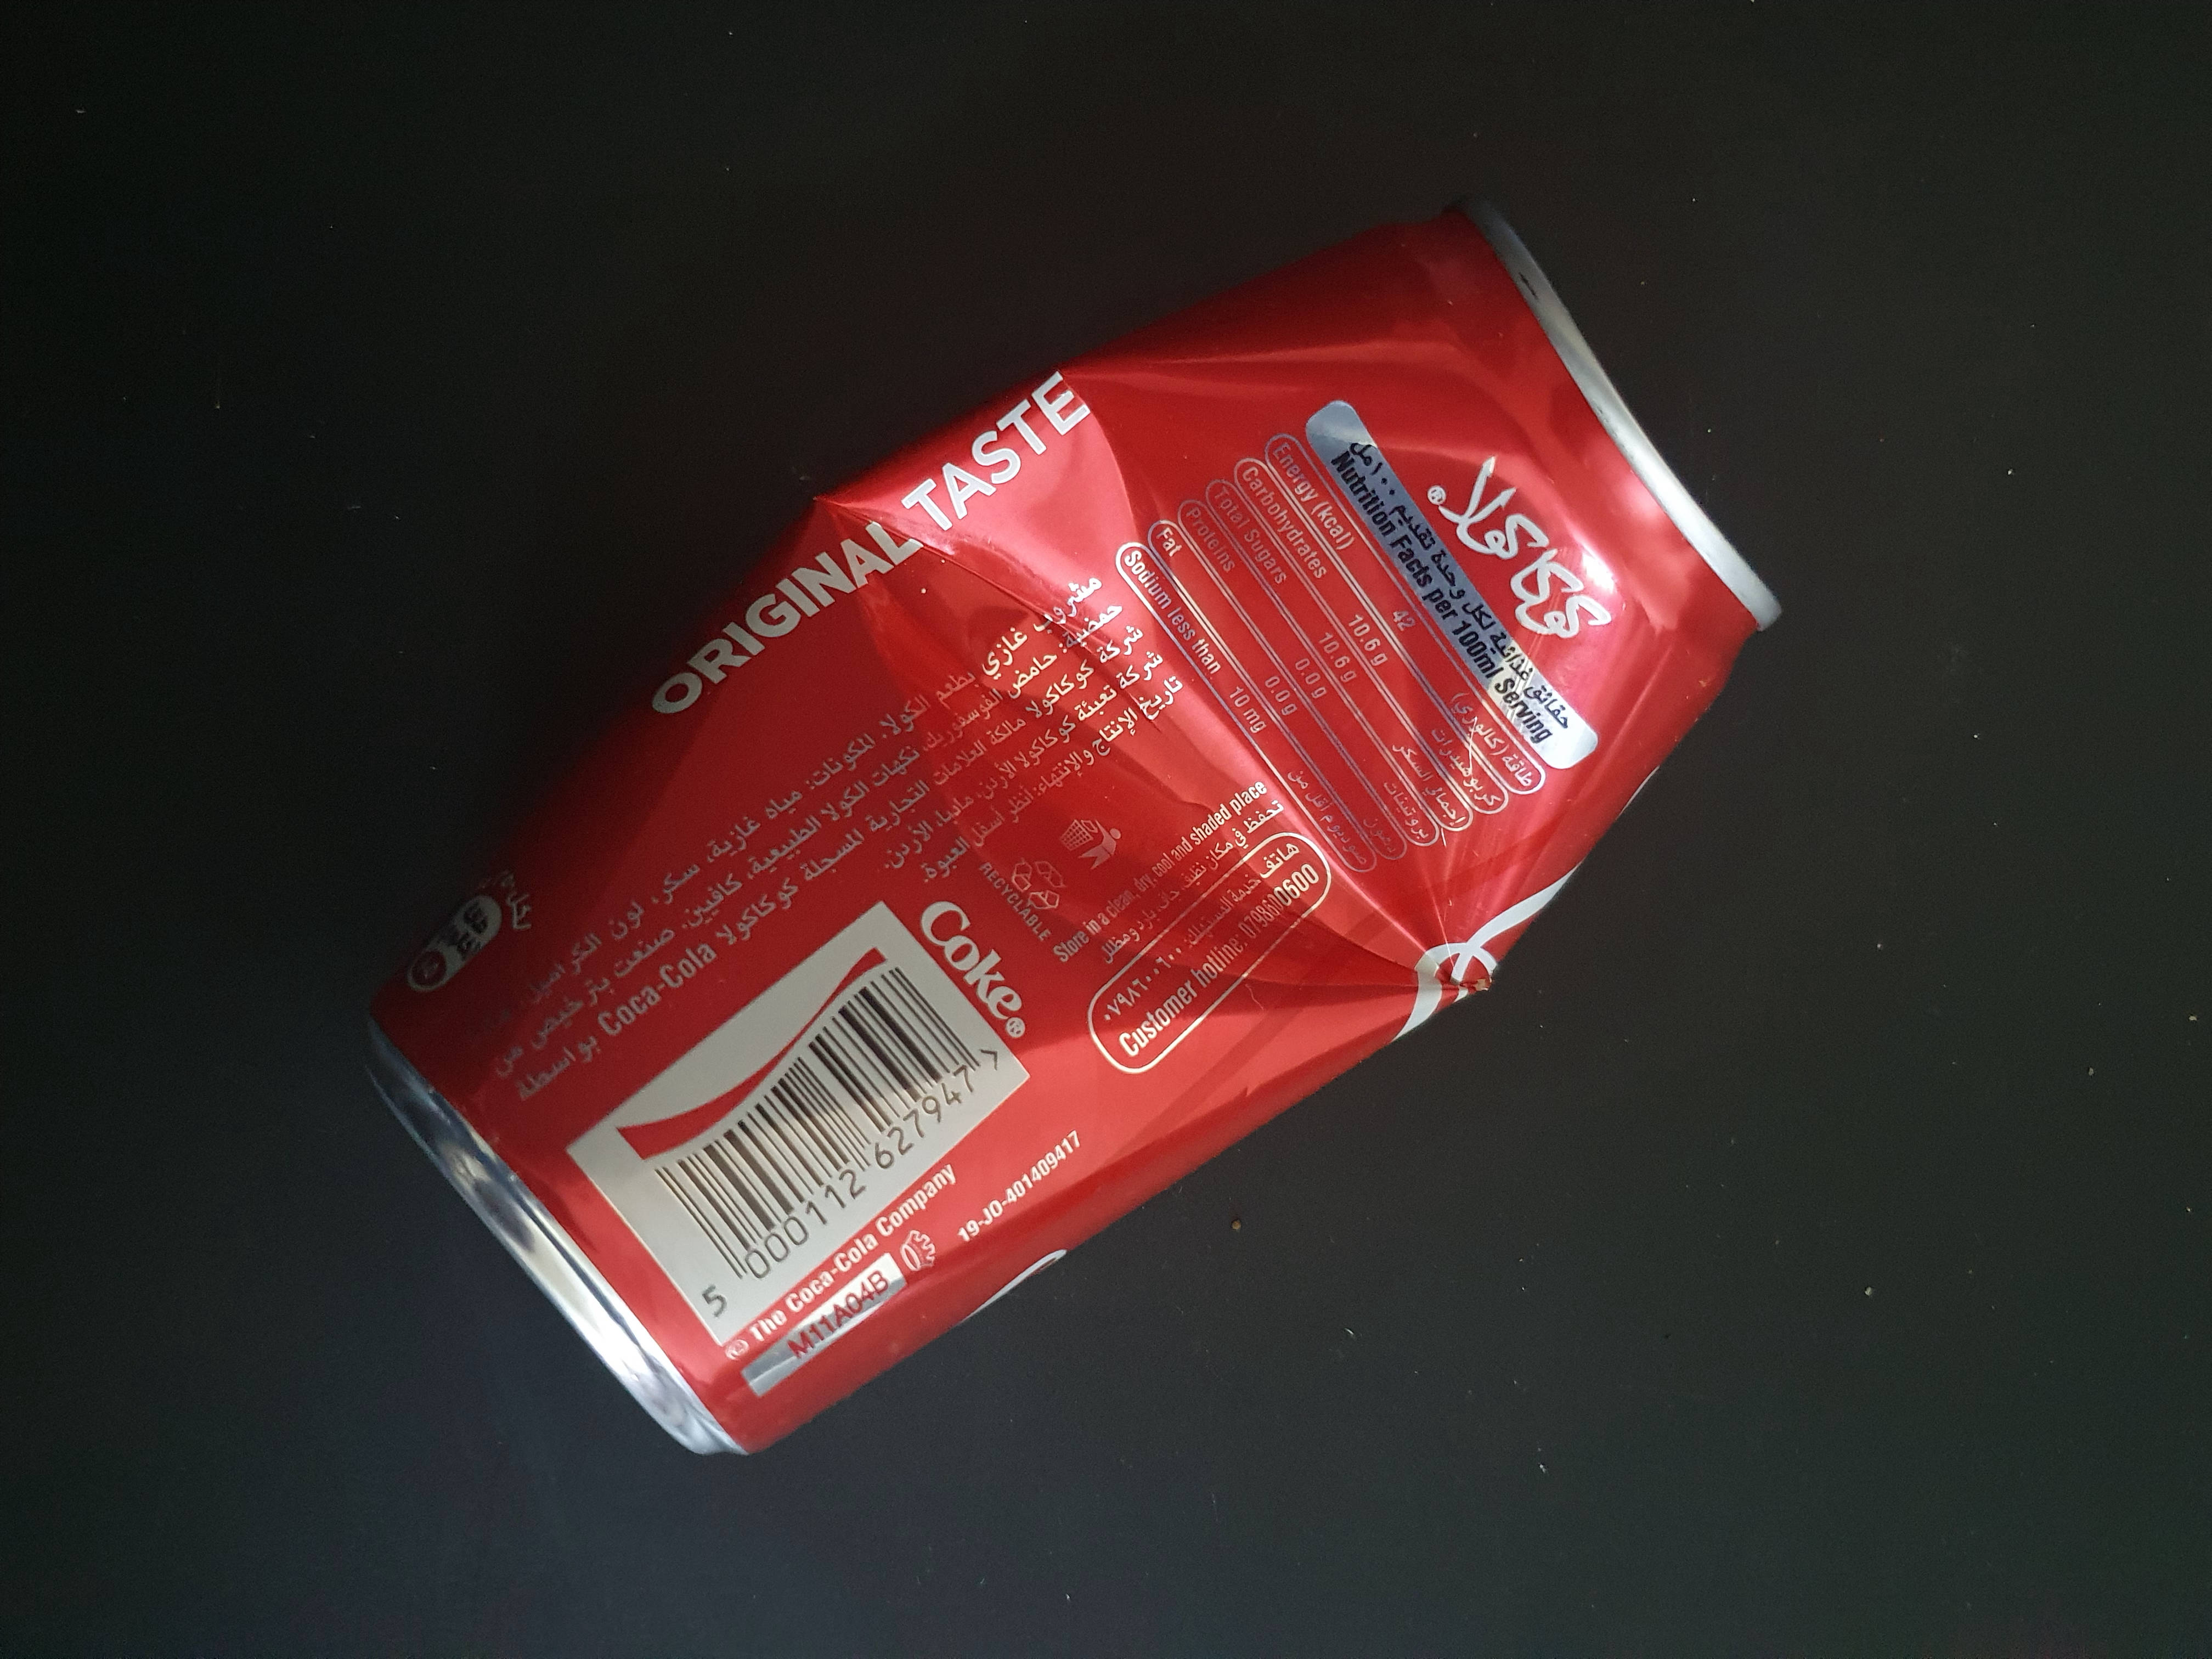metal: (345, 124, 1801, 1500)
